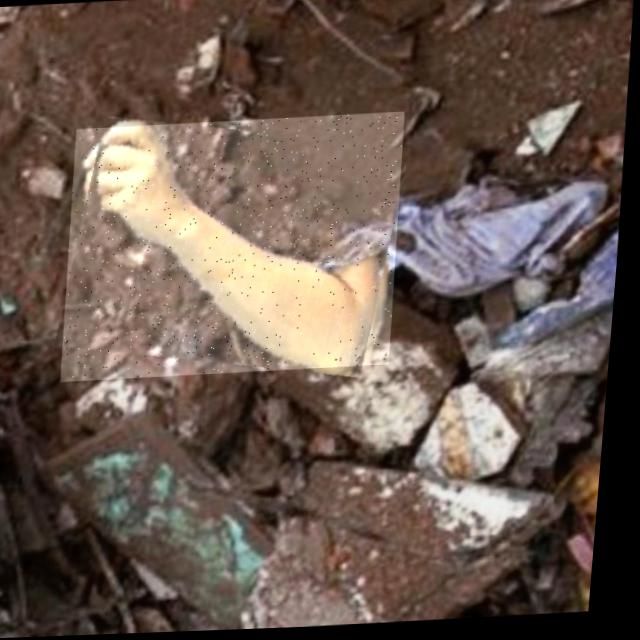Person in Rubble: (62, 113, 411, 381)
